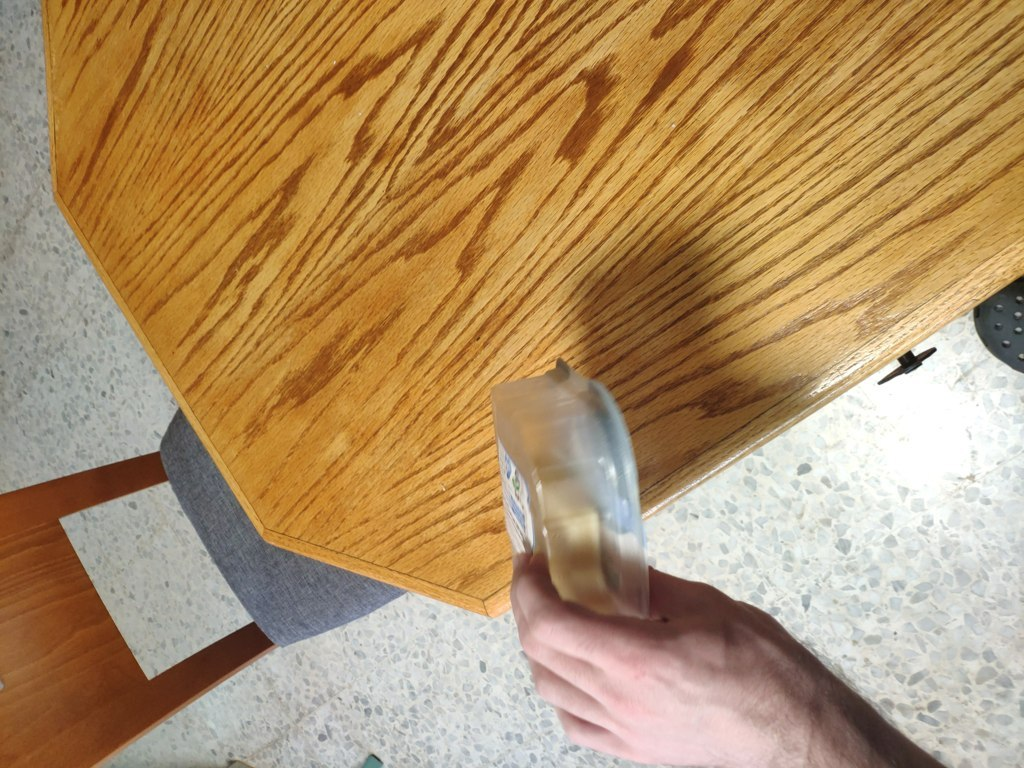Cheese: (435, 370, 765, 689)
